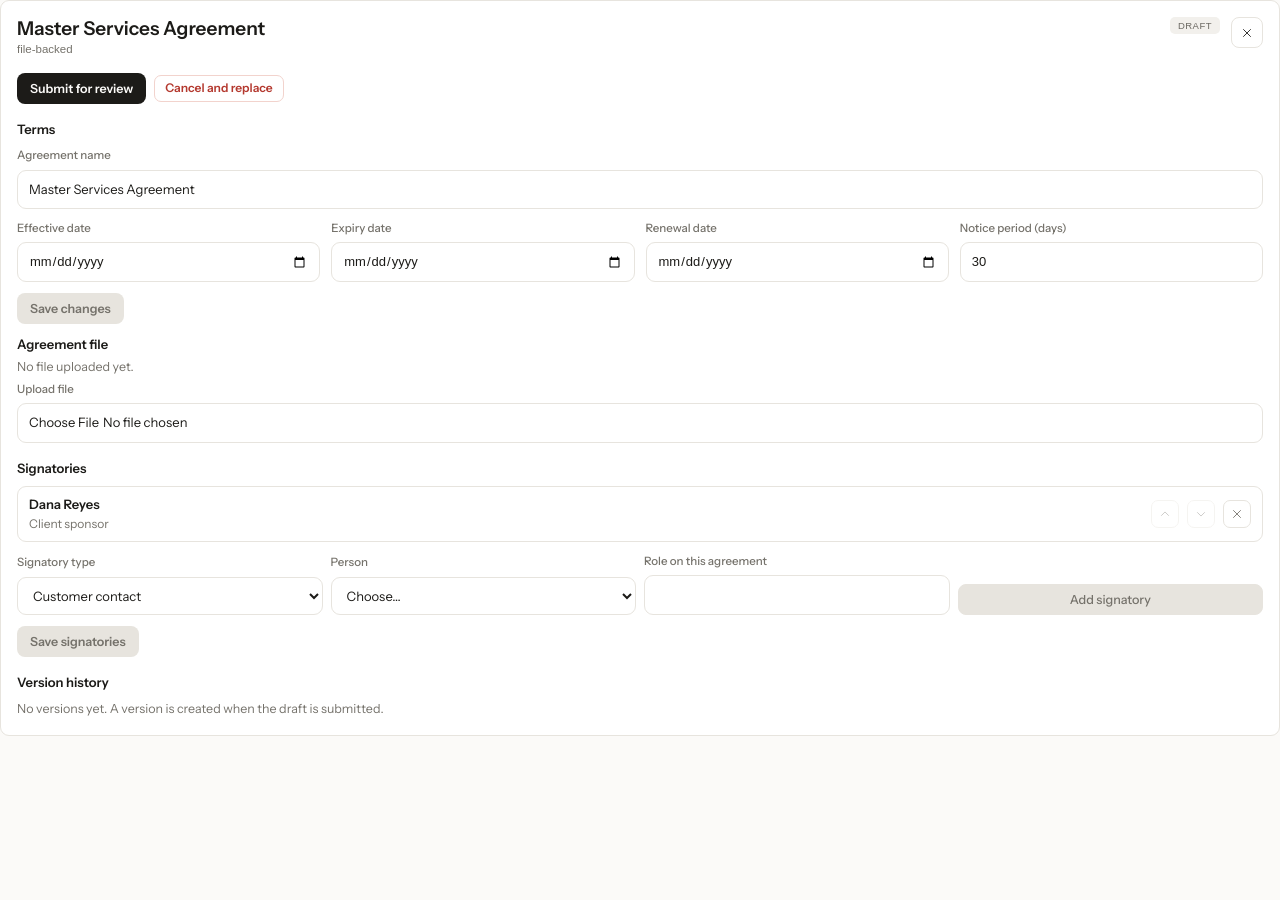
AgreementDetailPanel › a 409 from a stale lockVersion shows the reload message and refetches the detail
Replace the text in the field labelled "Agreement name" with "Edited" at (640, 189), box [17,170,1263,209]
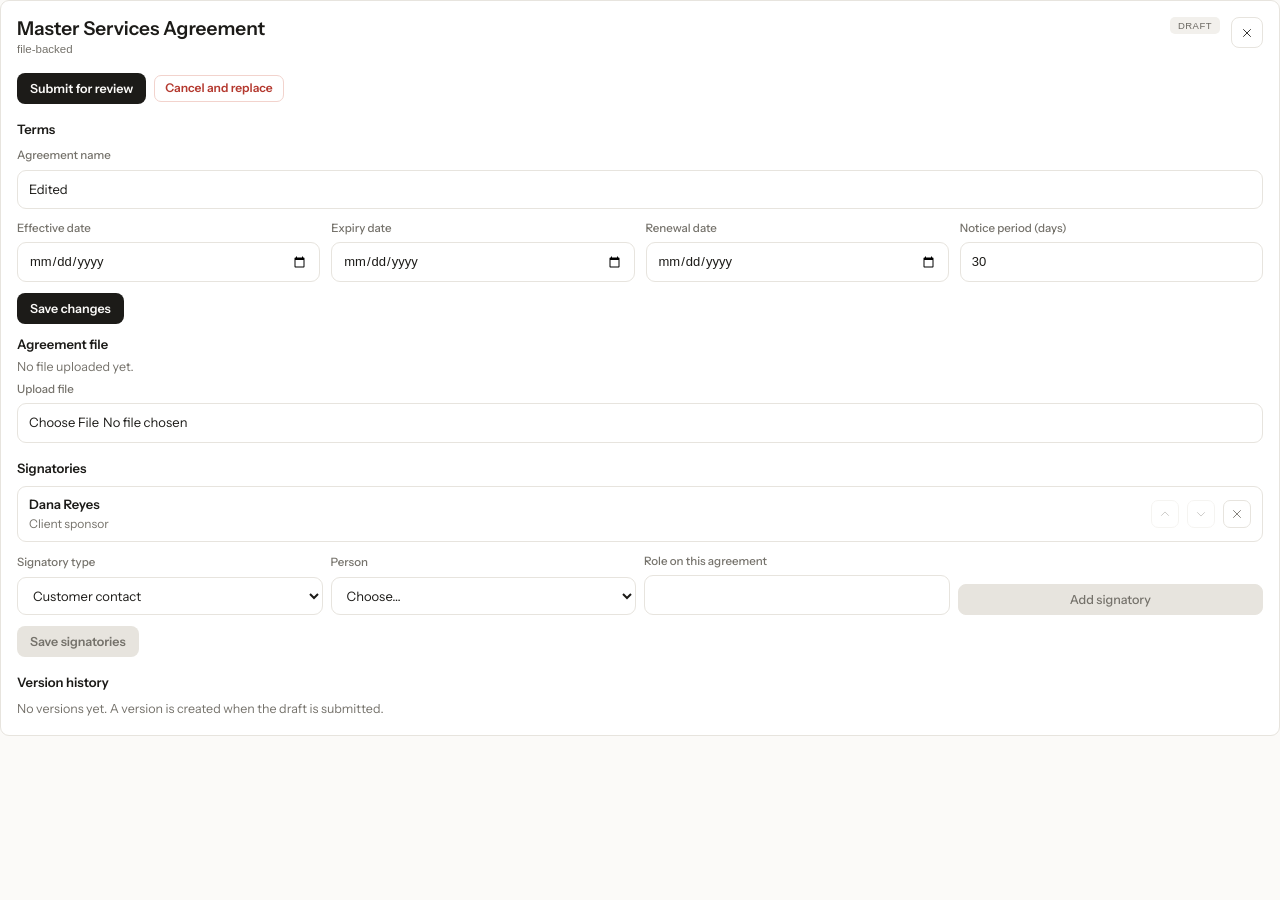
Click the button "Save changes" at (70, 308), box [17,293,124,324]
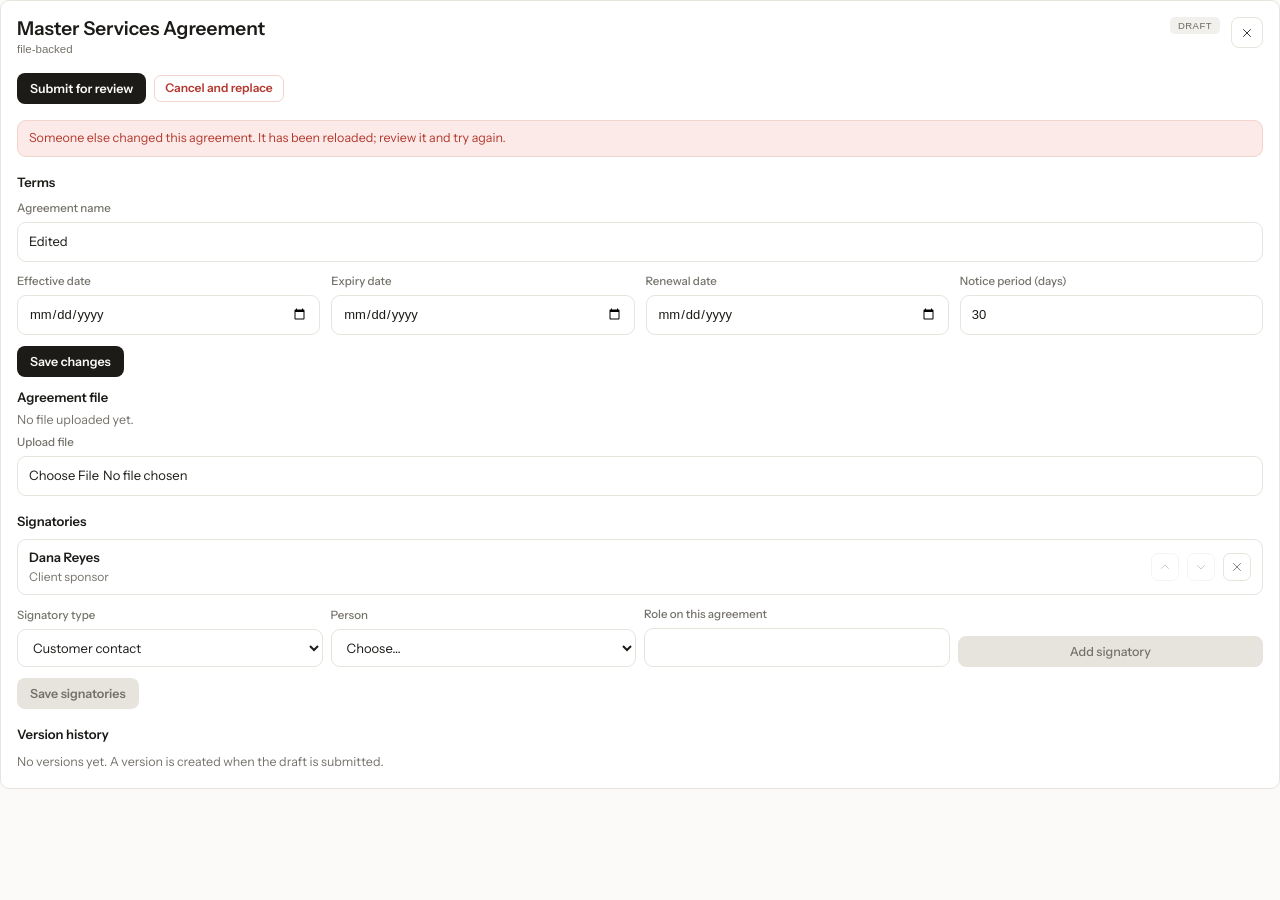
Expected: the message shows "Someone else changed this agreement", [29,130,506,145]
